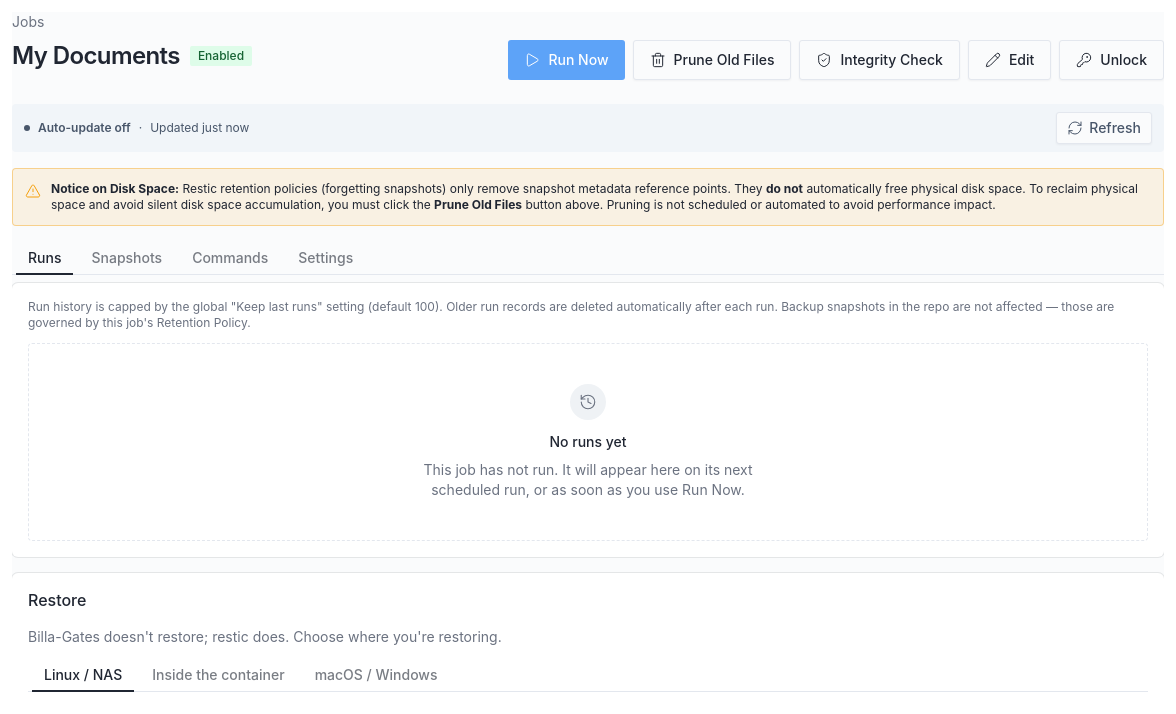
JobDetail › tab switching › switches to Snapshots tab on click
What coordinates should you click on to do the following:
click the tab "Snapshots"
I would click on:
 (127, 258)
Its box is [78, 246, 175, 270].
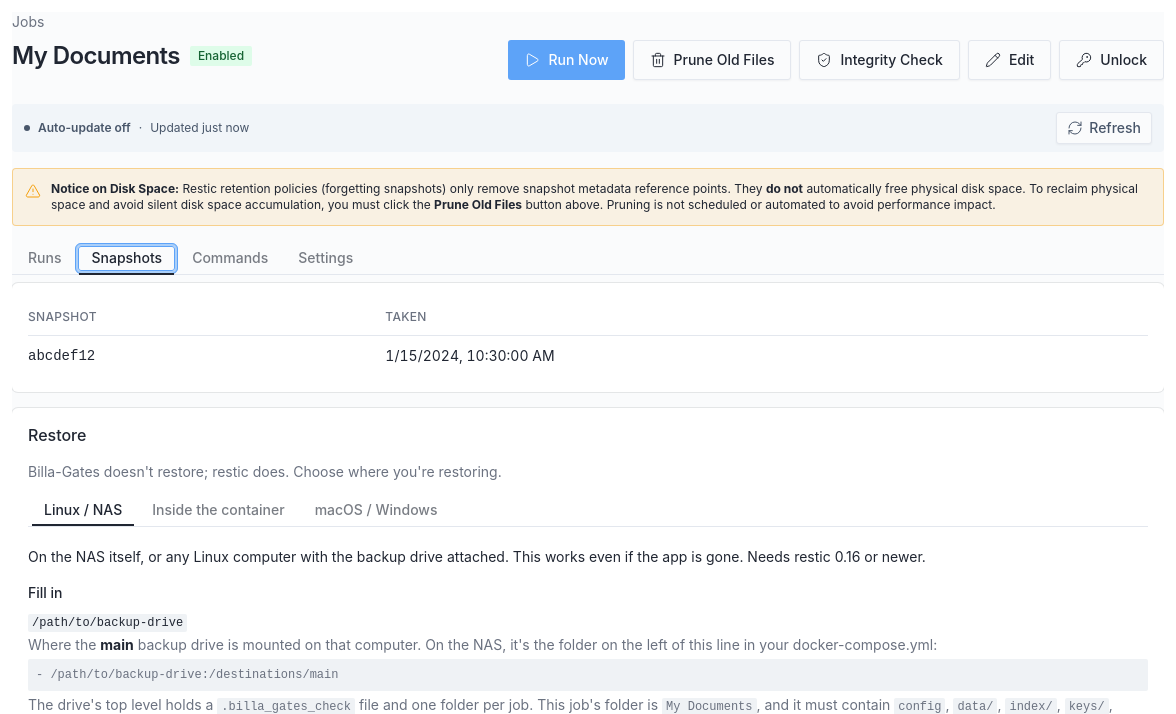
Now the text "abcdef12" is shown, box [28, 335, 373, 376]
